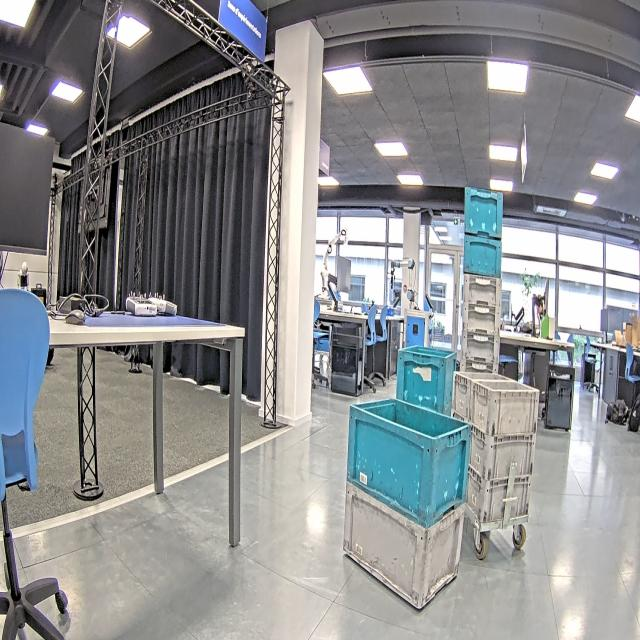Box3G: (462, 274, 502, 307), (459, 334, 501, 363), (461, 304, 501, 334), (458, 360, 498, 375)
Box4G: (345, 484, 466, 608)
Box8G: (469, 468, 532, 526), (474, 380, 536, 434), (470, 434, 535, 480), (452, 374, 475, 423)
BoxB4: (350, 405, 470, 521), (398, 348, 452, 412), (464, 187, 502, 238), (462, 235, 503, 279)
